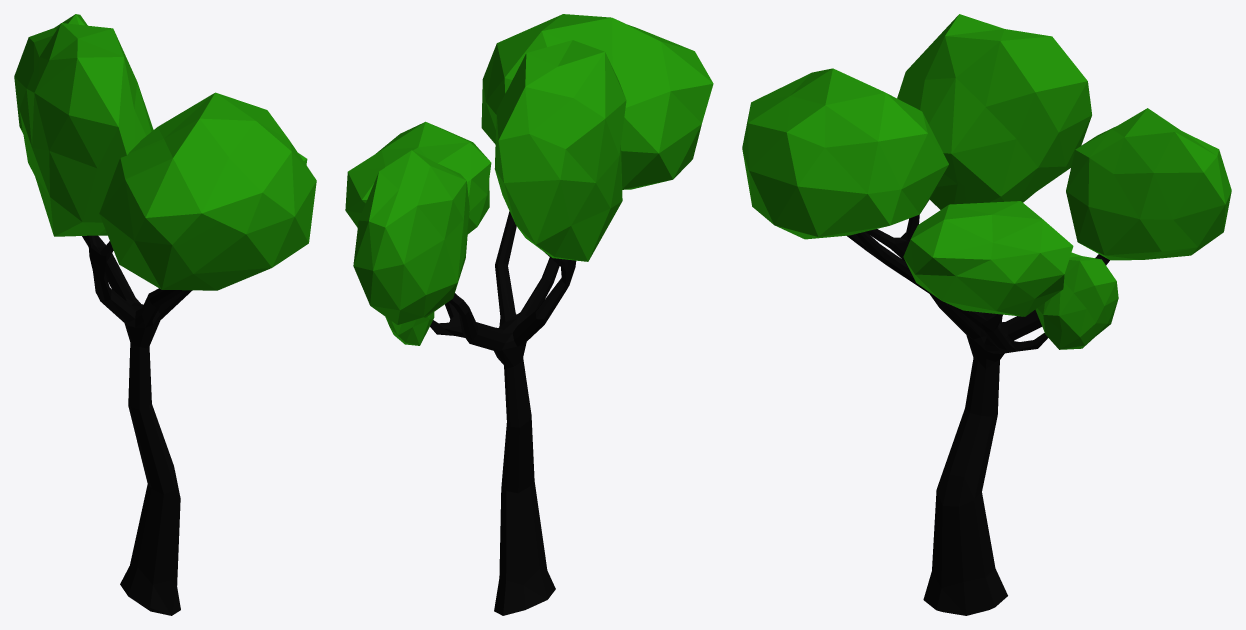
File: Tree04_JT.fbx
The picture shows the model from 3 angles, left to right: view 1: azimuth 30°, elevation 25°; view 2: azimuth 150°, elevation 25°; view 3: azimuth 270°, elevation 25°; orthographic projection. The views are drawn at different scales.
Visible parts, largest first — view 1: Tree04_JT; view 2: Tree04_JT; view 3: Tree04_JT.
Part boxes in pixels (<box>): Tree04_JT: <box>14,14,316,615</box>; Tree04_JT: <box>345,14,713,615</box>; Tree04_JT: <box>742,14,1231,615</box>.
Bounding box in the file's own units: 294 × 644 × 514.
